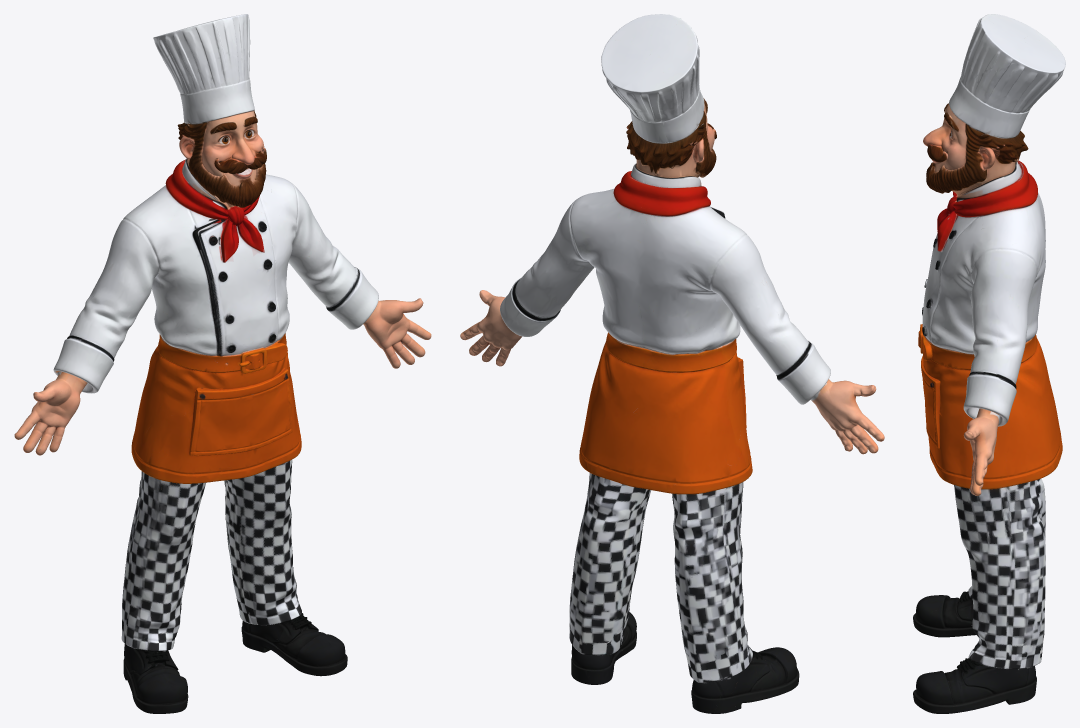
3 renders of one model, left to right at view 1: azimuth 30°, elevation 25°; view 2: azimuth 150°, elevation 25°; view 3: azimuth 270°, elevation 25°, orthographic. The views are drawn at different scales.
Parts seen in each view (by area): view 1: chef; view 2: chef; view 3: chef.
Part boxes in pixels (left/top/right/bottom): chef: left=14, top=14, right=431, bottom=713; chef: left=460, top=14, right=884, bottom=713; chef: left=913, top=14, right=1065, bottom=713.
Bounding box in the file's own units: 1.34 × 2 × 0.4307.
Materials: 1 (1 with a texture image).
